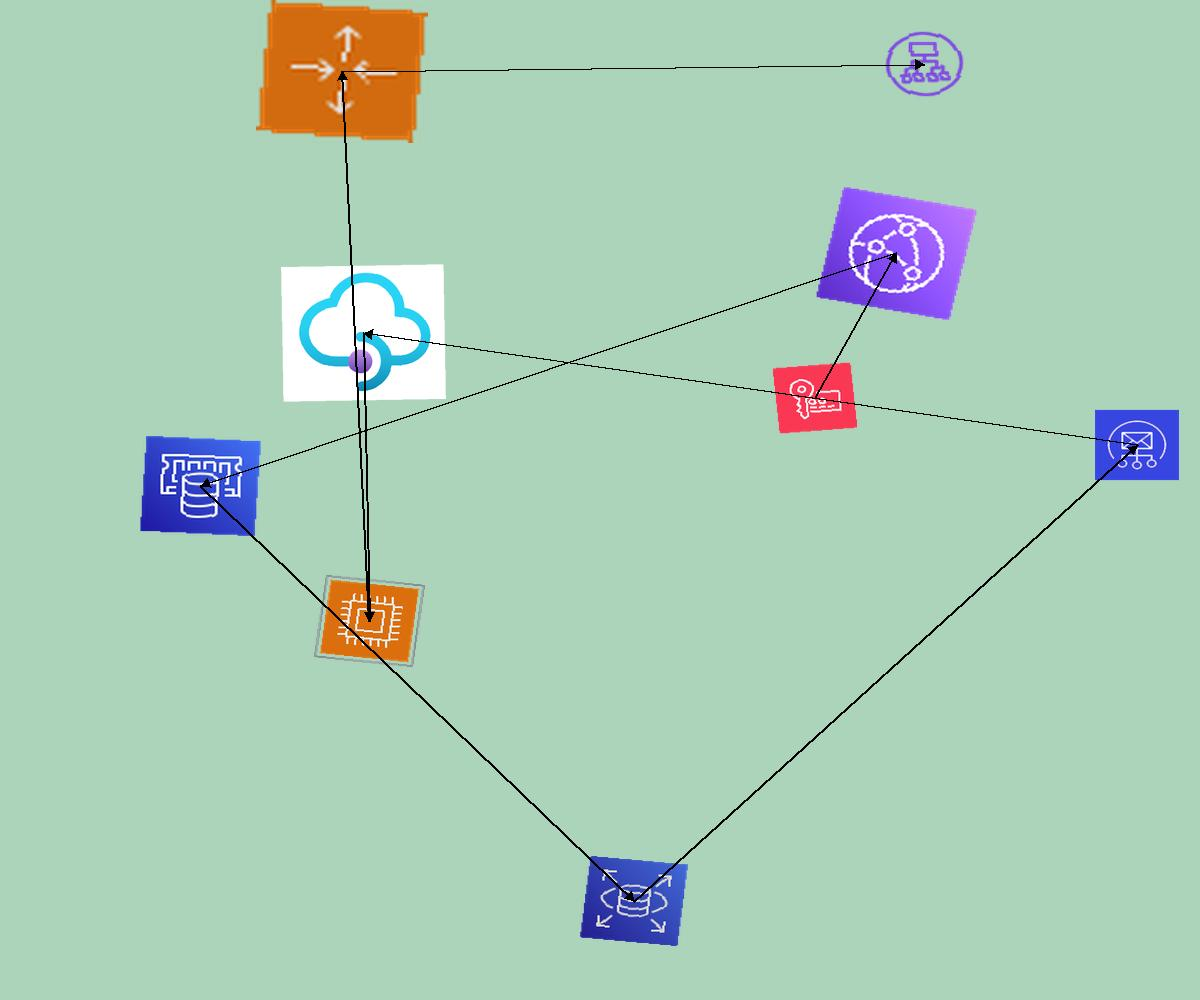AWS-Category_Compute: (313, 574, 426, 668)
AWS-CloudFront: (815, 186, 978, 321)
AWS-ElastiCache: (139, 435, 262, 537)
AWS-Key-Management-Service: (772, 362, 858, 434)
AWS-RDS: (579, 855, 689, 947)
AWS-Res_Elastic-Load-Balancing_Application-Load-Balancer: (879, 26, 970, 102)
AWS-Scaling-group: (256, 0, 428, 143)
AWS-Simple-Email-Service: (1094, 409, 1180, 481)
Azure_api_gateway: (281, 264, 446, 402)
